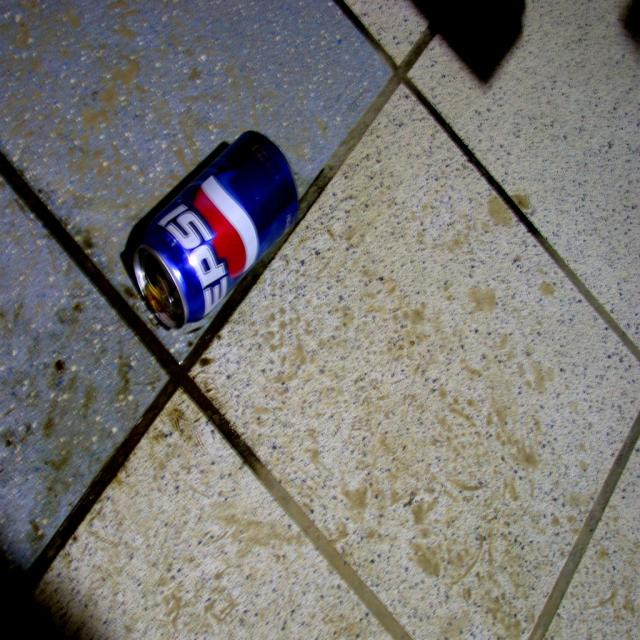pepsi: (197, 159, 274, 276)
